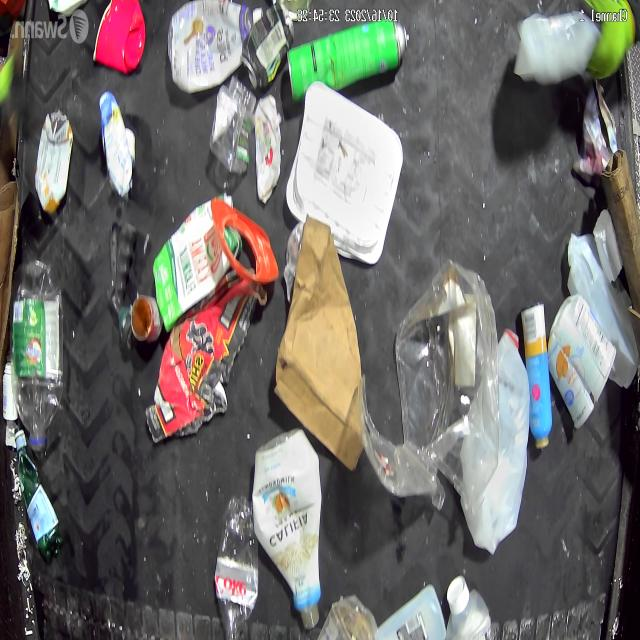can: (288, 18, 410, 104), (240, 1, 294, 92), (129, 290, 161, 349)
milk_jug: (462, 327, 528, 552), (567, 232, 637, 386), (512, 10, 599, 84)
non_white_jug: (152, 195, 242, 332), (167, 0, 255, 93), (367, 585, 448, 640)
plastic_bottle: (12, 261, 62, 454), (212, 494, 257, 640)
